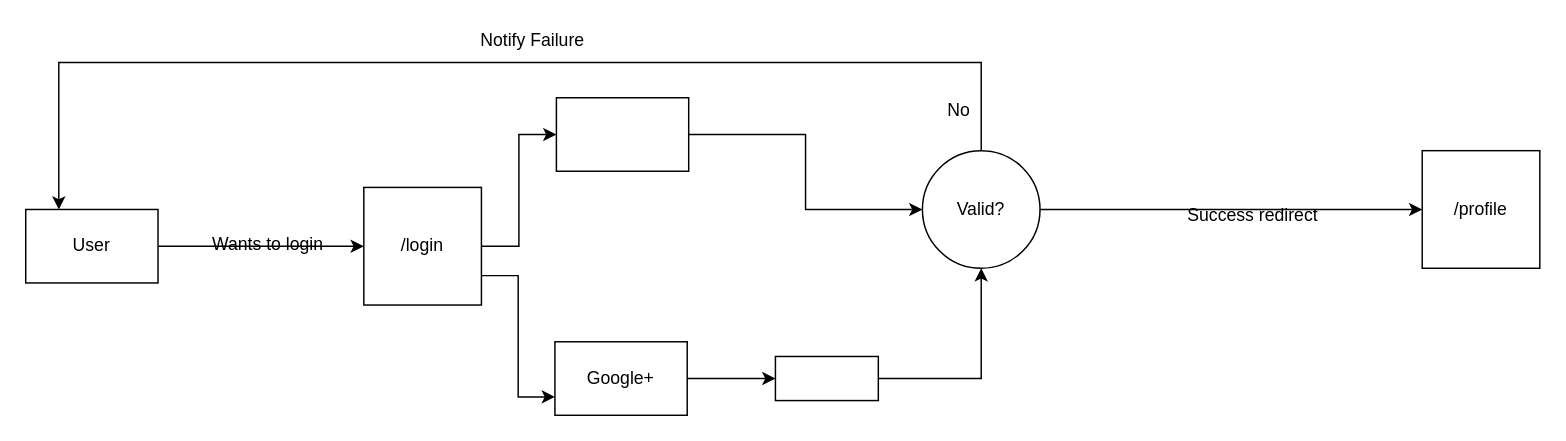
Some shapes in this 1566 by 441 pixel diagram are drawn without their labels. Each missing label, with the centre of its shape:
/auth/google: the point at 826,378
Local Login: the point at 622,133
